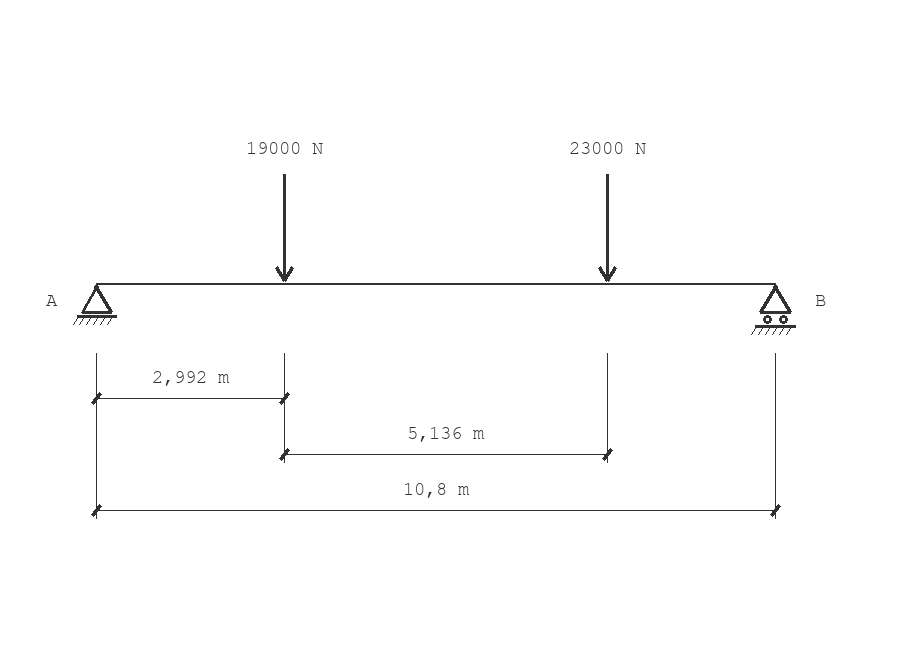pin_support: (73, 285, 117, 325)
point_load: (275, 174, 294, 282), (598, 174, 617, 282)
roller_support: (751, 285, 796, 335)
